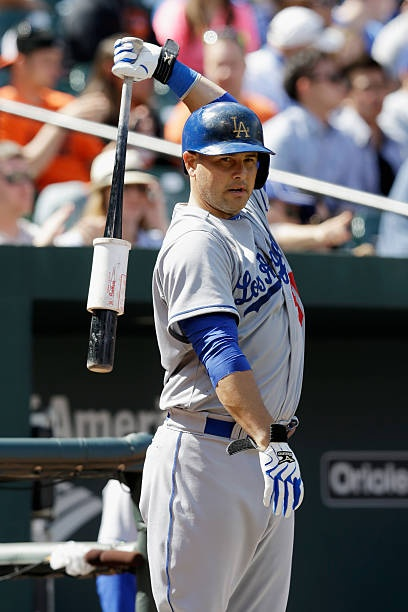bita: (87, 45, 132, 377)
